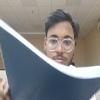notebook: (0, 15, 99, 99)
